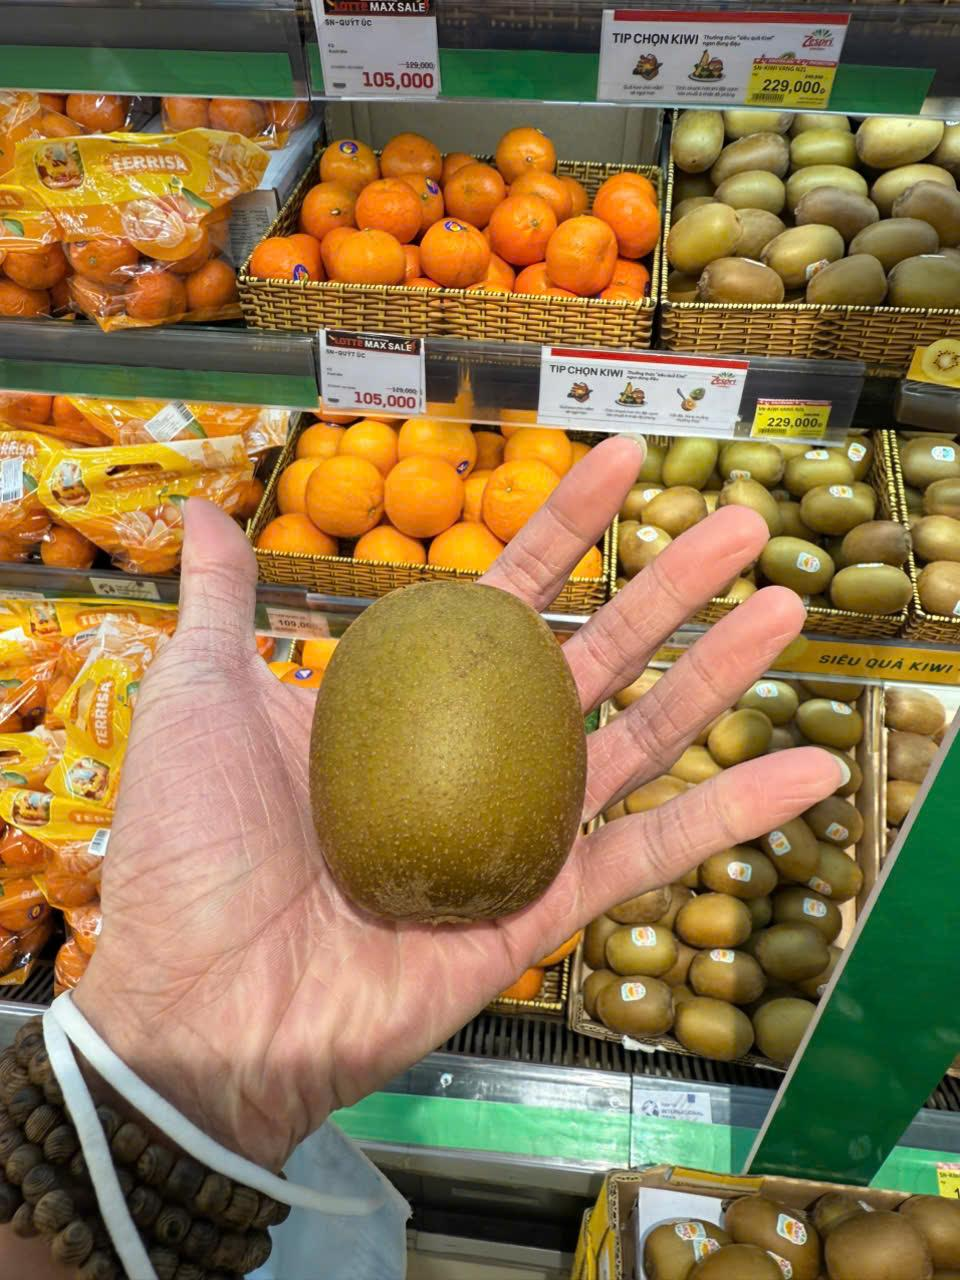kiwi: (303, 535, 596, 974), (813, 553, 918, 612), (680, 888, 758, 955), (693, 256, 798, 305), (800, 251, 902, 301), (602, 971, 672, 1044), (602, 913, 684, 974), (850, 116, 946, 165), (798, 483, 884, 536), (798, 185, 878, 240), (680, 1001, 750, 1062), (710, 163, 790, 214), (690, 945, 764, 994)
orange: (301, 458, 390, 541), (380, 456, 464, 540), (419, 208, 496, 279), (548, 218, 616, 295), (353, 178, 432, 240), (490, 193, 554, 264), (598, 180, 658, 252), (320, 236, 400, 281), (377, 130, 442, 181), (500, 121, 556, 179)
